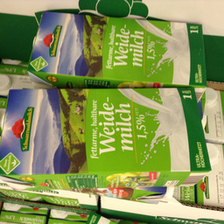milk: (1, 88, 215, 193), (28, 14, 215, 90)
